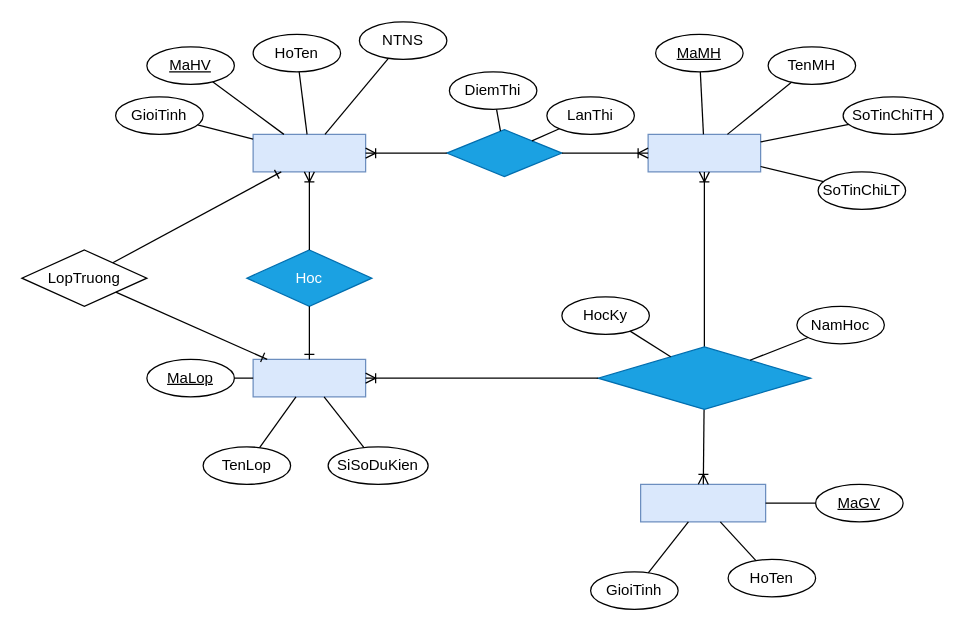
Image size: 965x631. Some labels were removed from this diagram. Here are the shapes that lost their labels. From the top down, the box of each, then its label:
(252, 133, 366, 172): HocVien
(446, 128, 562, 176): KetQuaThi
(647, 133, 761, 172): MonHoc
(252, 358, 366, 397): LopHoc
(597, 346, 811, 409): PhanCongGiangDay
(639, 483, 766, 522): GiaoVien
